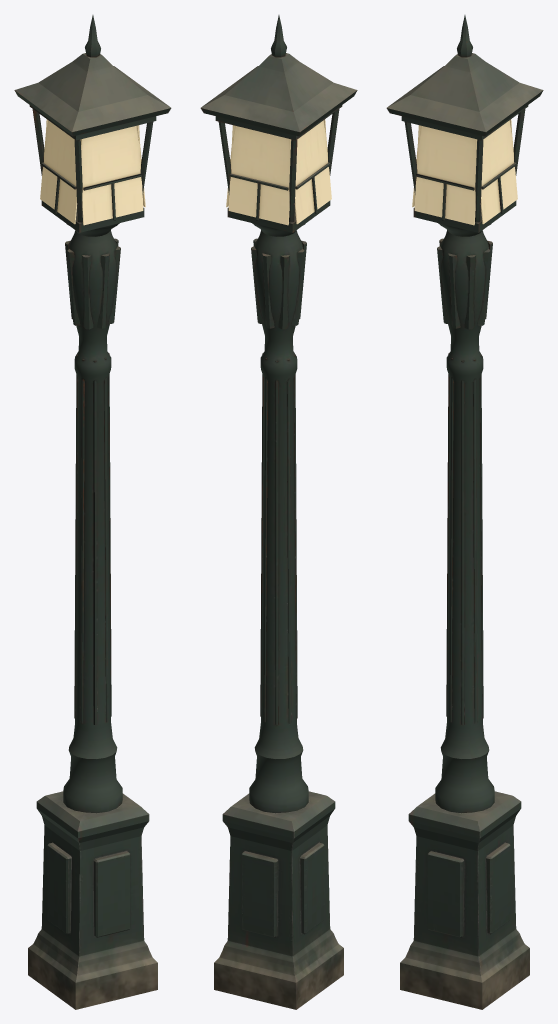
The model's file is street_lamp.glb.
The picture shows the model from 3 angles, left to right: view 1: azimuth 30°, elevation 25°; view 2: azimuth 150°, elevation 25°; view 3: azimuth 330°, elevation 25°; orthographic projection.
Visible parts, largest first — view 1: street_lamp; view 2: street_lamp; view 3: street_lamp.
Boxes of the visible parts, box(x1,y1,x2,y2) form: street_lamp: box(14, 15, 171, 1009); street_lamp: box(200, 15, 357, 1009); street_lamp: box(386, 15, 543, 1009).
Bounding box in the file's own units: 0.4597 × 4.27 × 0.4597.
Materials: 2 (2 with a texture image).
